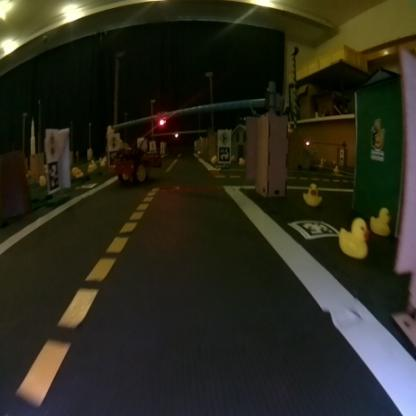duckie: (334, 205, 372, 266), (297, 178, 331, 218), (369, 202, 392, 244)
duckiebot: (102, 130, 165, 197)
